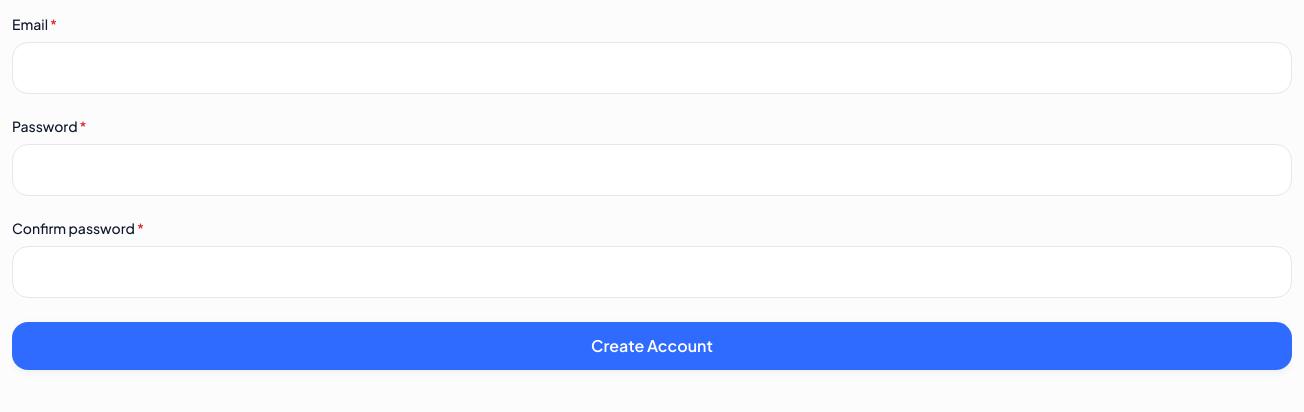
it: RegisterForm › shows a validation error on blur for an invalid email, linked via aria-describedby
In the field labelled "Email*": (652, 68) [12,42,1292,94], type "not-an-email"
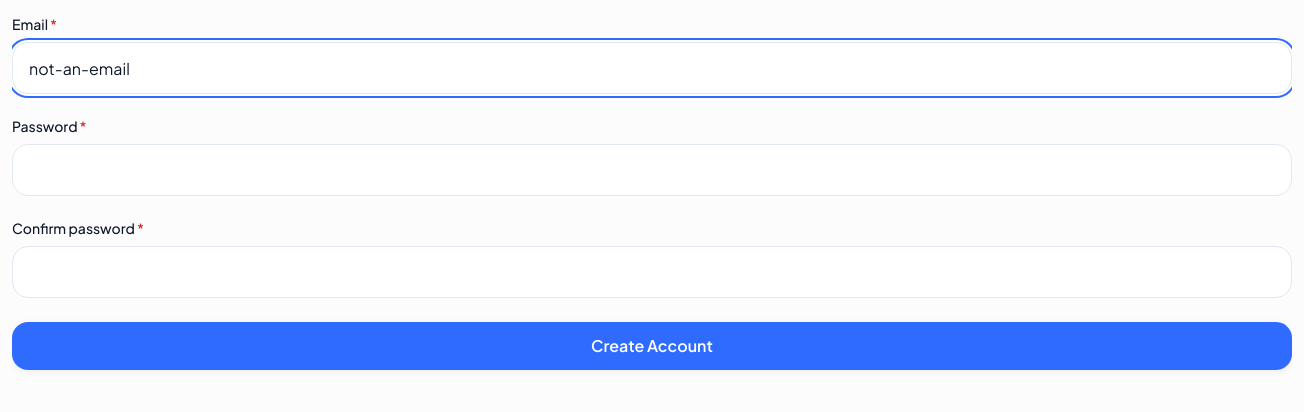
Press Tab
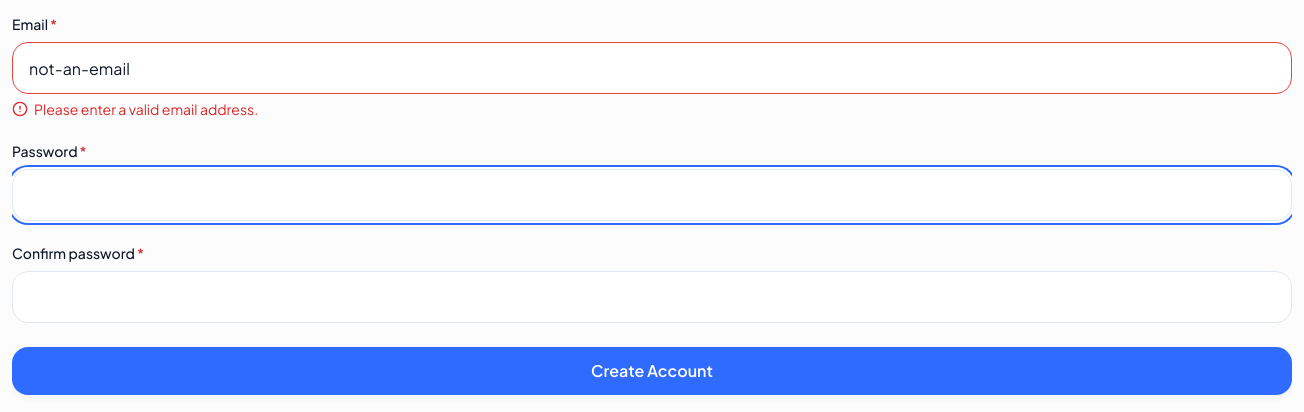
Now the text "Please enter a valid email address." is shown, box [34,100,258,119]
